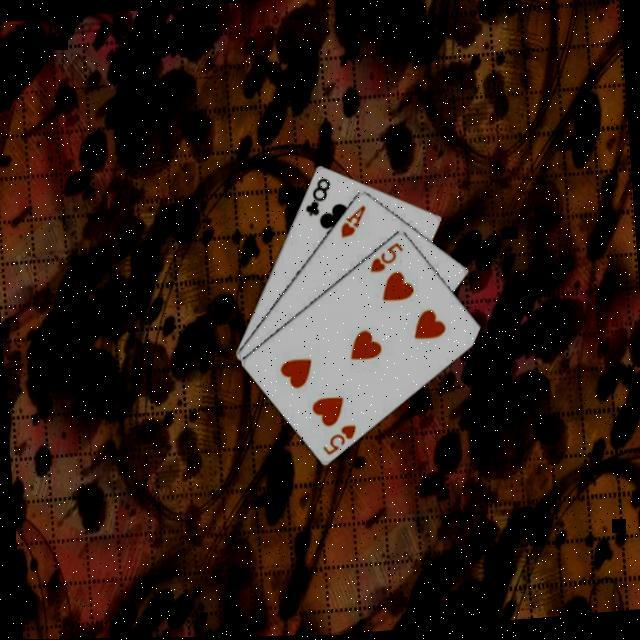5H: (366, 238, 408, 275), (319, 420, 361, 457)
8C: (300, 174, 335, 218)
AH: (336, 202, 371, 240)
